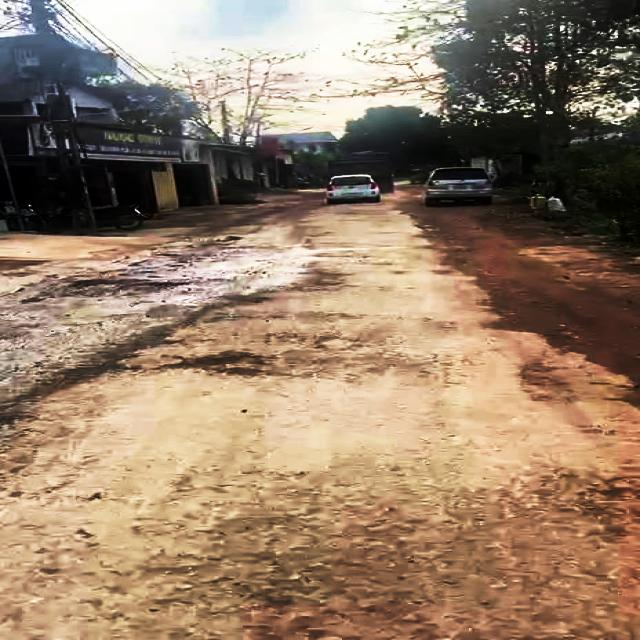pothole: (174, 346, 270, 374)
